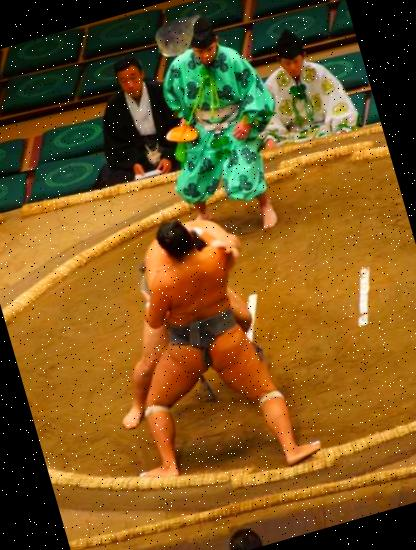Beetroot: (143, 0, 216, 69)
